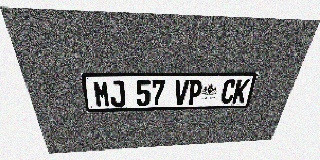5: (136, 80, 151, 106)
7: (151, 80, 165, 106)
C: (220, 79, 237, 104)
J: (109, 80, 126, 107)
K: (232, 79, 250, 103)
M: (93, 81, 111, 107)
P: (187, 80, 203, 105)
V: (174, 80, 189, 105)
